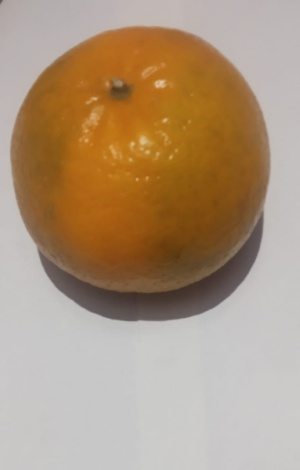BAD: (9, 26, 277, 296)
